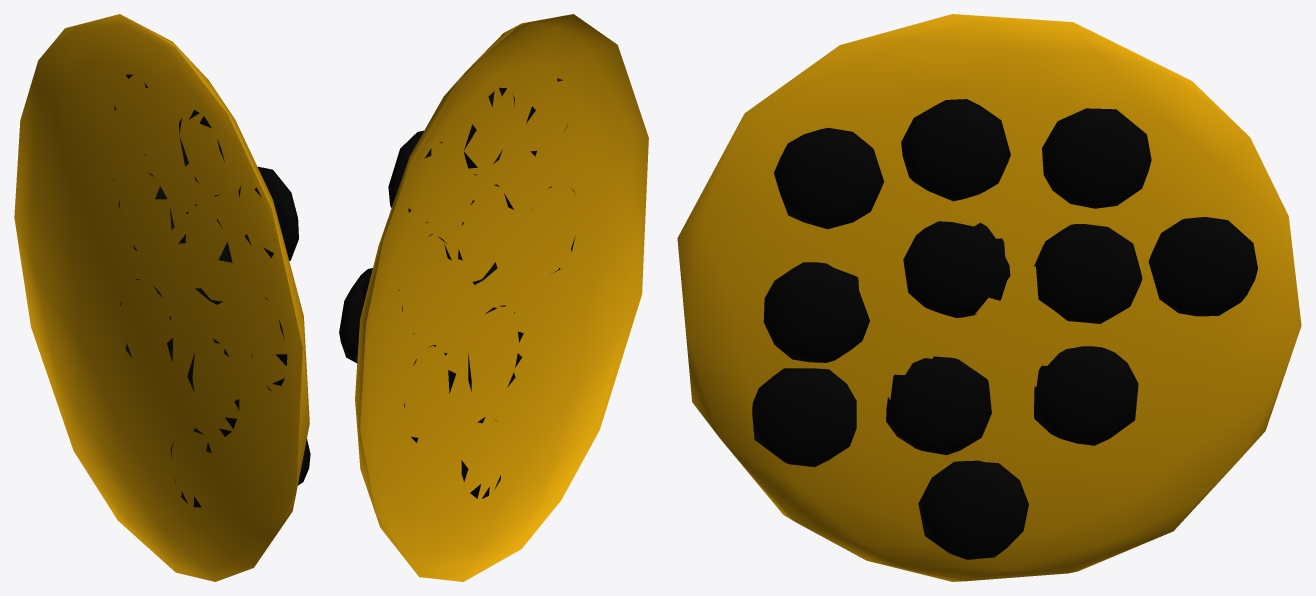
The model's file is cookie_beta.fbx.
The picture shows the model from 3 angles, left to right: view 1: azimuth 30°, elevation 25°; view 2: azimuth 150°, elevation 25°; view 3: azimuth 270°, elevation 25°; orthographic projection. The views are drawn at different scales.
Visible parts, largest first — view 1: base; view 2: base; view 3: base.
Boxes of the visible parts, x1,y1,x2,y2 form: base: [14, 14, 310, 581]; base: [339, 14, 648, 581]; base: [677, 14, 1301, 581].
Size of the model in its own units: 20.88 by 200 by 199.
